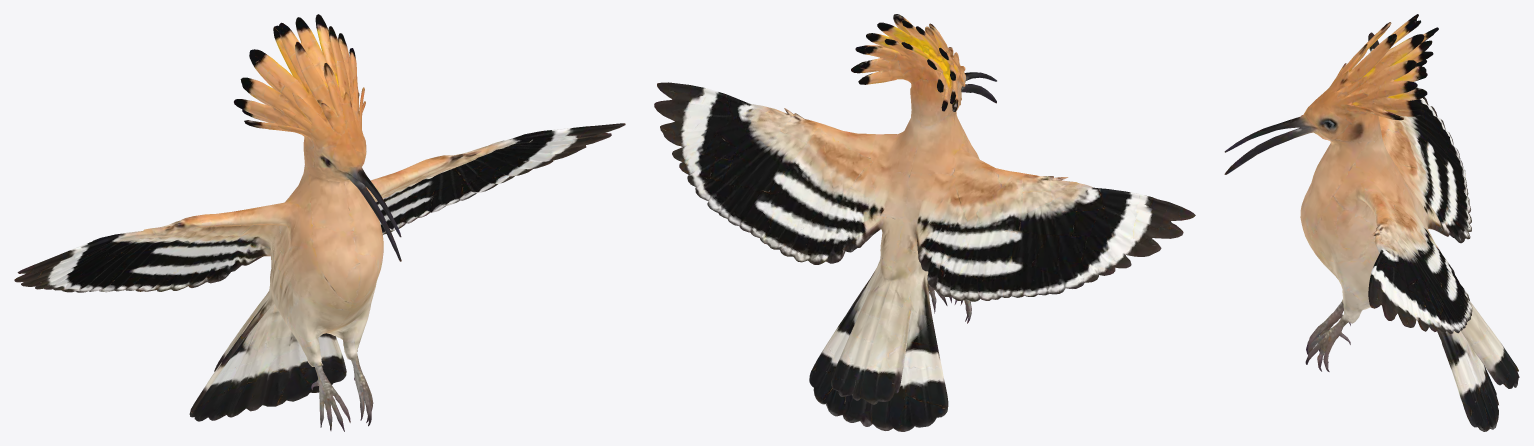
The model's file is hoopoe.glb.
The picture shows the model from 3 angles, left to right: view 1: azimuth 30°, elevation 25°; view 2: azimuth 150°, elevation 25°; view 3: azimuth 270°, elevation 25°; orthographic projection. The views are drawn at different scales.
Bounding box in the file's own units: 1.9 × 1.27 × 0.8637.
1 material, 1 textured.
